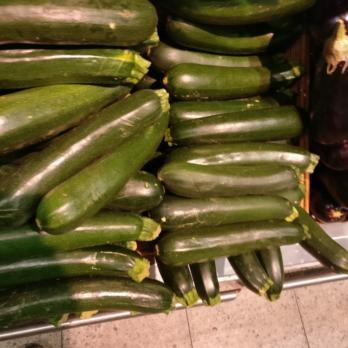Cucumber: (2, 0, 304, 305)
